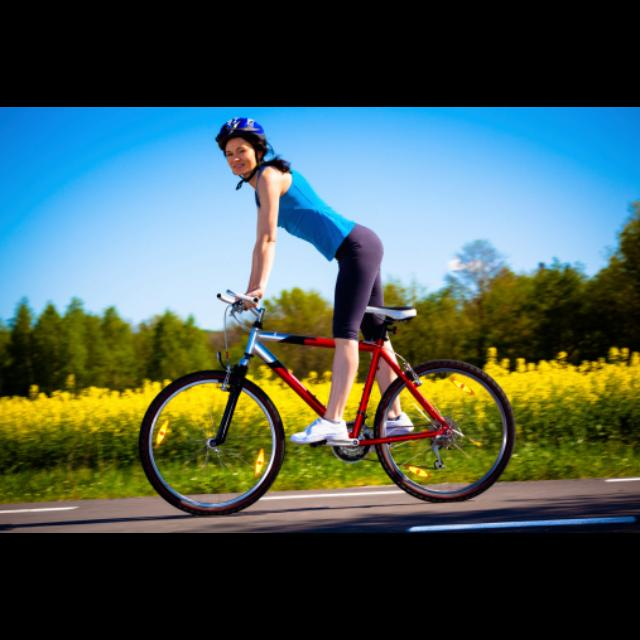With Helmet: (202, 113, 284, 191)
